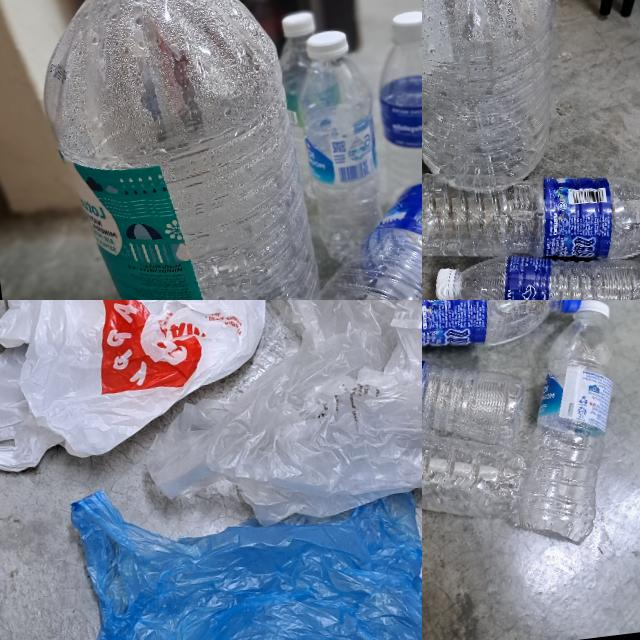garrafa plástica: (25, 0, 329, 300), (494, 317, 640, 547), (422, 0, 580, 201), (422, 145, 640, 285), (239, 169, 422, 300), (298, 50, 392, 263), (422, 336, 522, 458), (451, 237, 640, 300), (422, 415, 513, 536), (277, 34, 335, 199), (372, 33, 422, 209), (422, 300, 556, 362)
sacola plástica: (119, 300, 422, 537), (64, 457, 422, 640), (0, 300, 285, 478)
tampa plástica: (304, 27, 350, 59), (280, 9, 316, 36), (393, 8, 422, 35), (434, 266, 457, 300), (576, 300, 612, 320), (549, 300, 584, 315)
